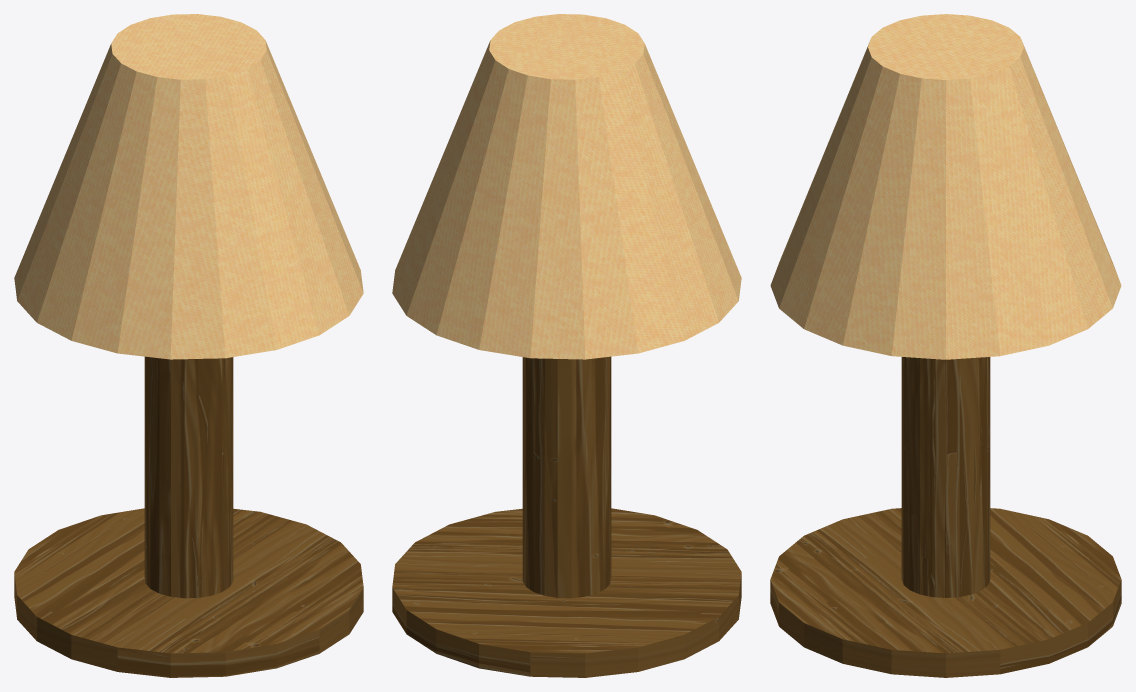
Rendered from tablelamp_textured.fbx.
The picture shows the model from 3 angles, left to right: view 1: azimuth 30°, elevation 25°; view 2: azimuth 150°, elevation 25°; view 3: azimuth 270°, elevation 25°; orthographic projection.
Parts seen in each view (by area): view 1: Circle.001, Circle; view 2: Circle.001, Circle; view 3: Circle.001, Circle.
Boxes of the visible parts, <box> form: Circle.001: <box>14,14,363,359</box>; Circle: <box>14,356,363,677</box>; Circle.001: <box>392,14,741,359</box>; Circle: <box>392,356,741,677</box>; Circle.001: <box>770,14,1121,359</box>; Circle: <box>770,357,1121,677</box>.
Size of the model in its own units: 40 by 70 by 40.
